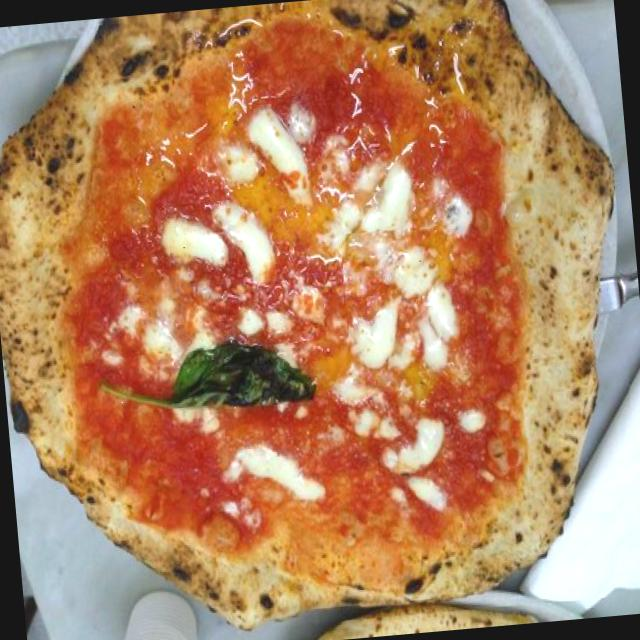basil: (99, 339, 328, 420)
cheese: (340, 224, 474, 380), (165, 195, 287, 286), (252, 94, 324, 202)
pizza: (0, 0, 613, 628)
